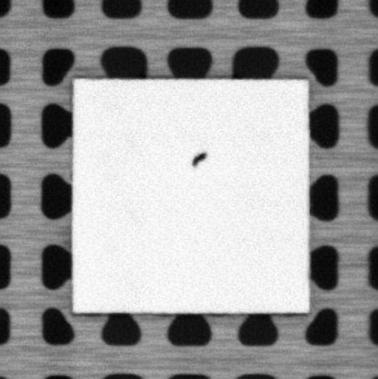DIE_INK: (192, 150, 208, 166)
